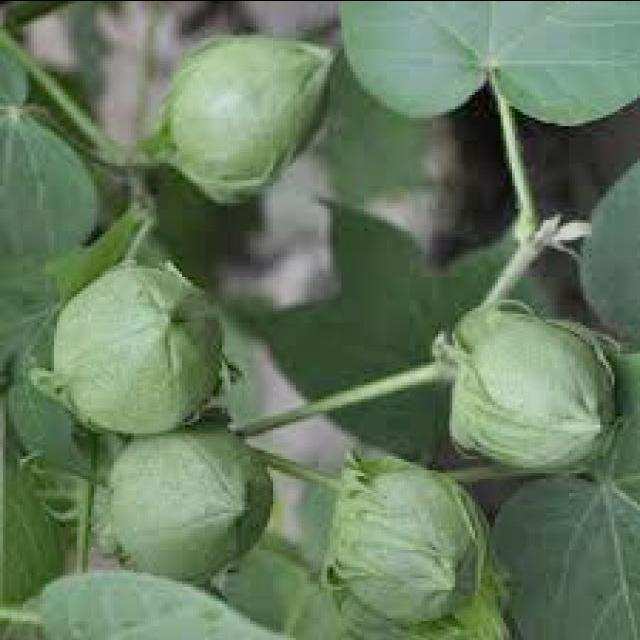Early Boll: (41, 260, 227, 432), (85, 428, 287, 582), (441, 303, 621, 474), (151, 30, 337, 194), (319, 464, 482, 632)
